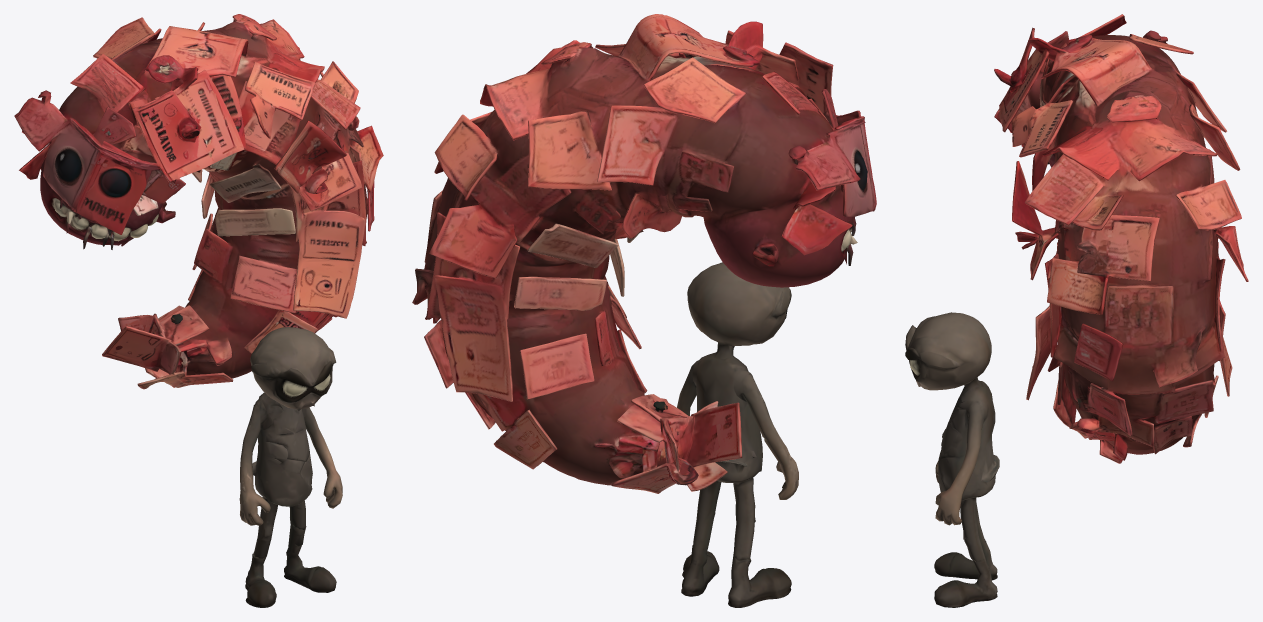
The model's file is the_final_notice.glb.
3 views of the same model, side by side, from view 1: azimuth 30°, elevation 25°; view 2: azimuth 150°, elevation 25°; view 3: azimuth 270°, elevation 25° (orthographic). The views are drawn at different scales.
Parts seen in each view (by area): view 1: the_final_notice; view 2: the_final_notice; view 3: the_final_notice.
Part boxes in pixels (x1,y1,x2,y2): the_final_notice: [14, 14, 383, 607]; the_final_notice: [412, 14, 876, 607]; the_final_notice: [905, 14, 1248, 607].
Bounding box in the file's own units: 2.14 × 3 × 1.77.
1 material, 1 textured.
